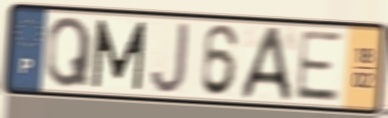6: (199, 22, 240, 100)
A: (238, 25, 295, 102)
E: (292, 27, 344, 104)
J: (148, 21, 191, 97)
M: (90, 17, 149, 93)
Q: (45, 15, 94, 91)
